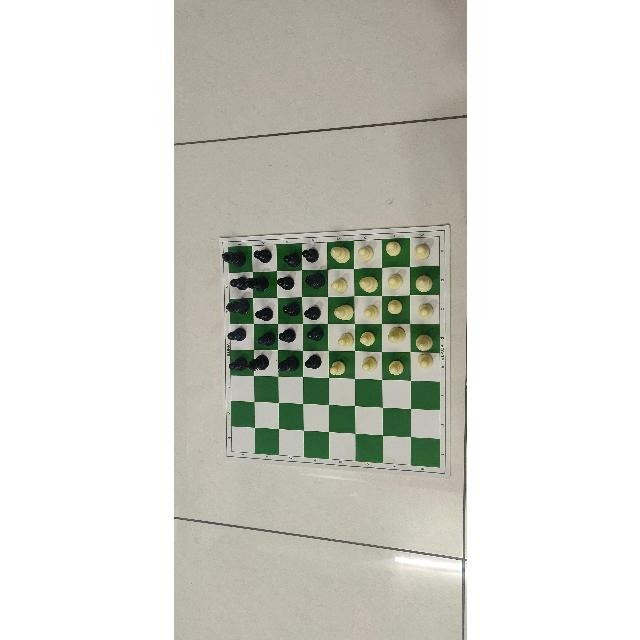black-bishop: (246, 274, 274, 298), (220, 247, 251, 267), (224, 298, 251, 320), (246, 353, 271, 374), (276, 355, 299, 375), (303, 271, 326, 291)
black-pawn: (303, 301, 326, 322), (251, 248, 273, 268), (253, 304, 277, 321), (228, 275, 248, 295), (278, 327, 298, 347), (301, 246, 323, 264), (227, 326, 249, 344), (275, 276, 298, 293), (303, 353, 324, 371), (279, 301, 300, 319), (254, 329, 274, 347), (304, 326, 324, 343), (279, 252, 300, 268), (228, 355, 246, 372)
white-bishop: (411, 272, 438, 294), (412, 330, 438, 352), (329, 303, 352, 325), (383, 327, 407, 348), (327, 246, 352, 266), (355, 275, 378, 295)
white-pawn: (414, 302, 437, 322), (330, 330, 353, 350), (412, 352, 435, 372), (356, 303, 380, 322), (384, 299, 406, 319), (384, 240, 404, 261), (356, 243, 376, 264), (385, 271, 406, 291), (358, 355, 378, 376), (328, 275, 350, 294), (329, 357, 351, 376), (413, 243, 433, 263), (386, 358, 406, 377), (356, 332, 377, 348)
